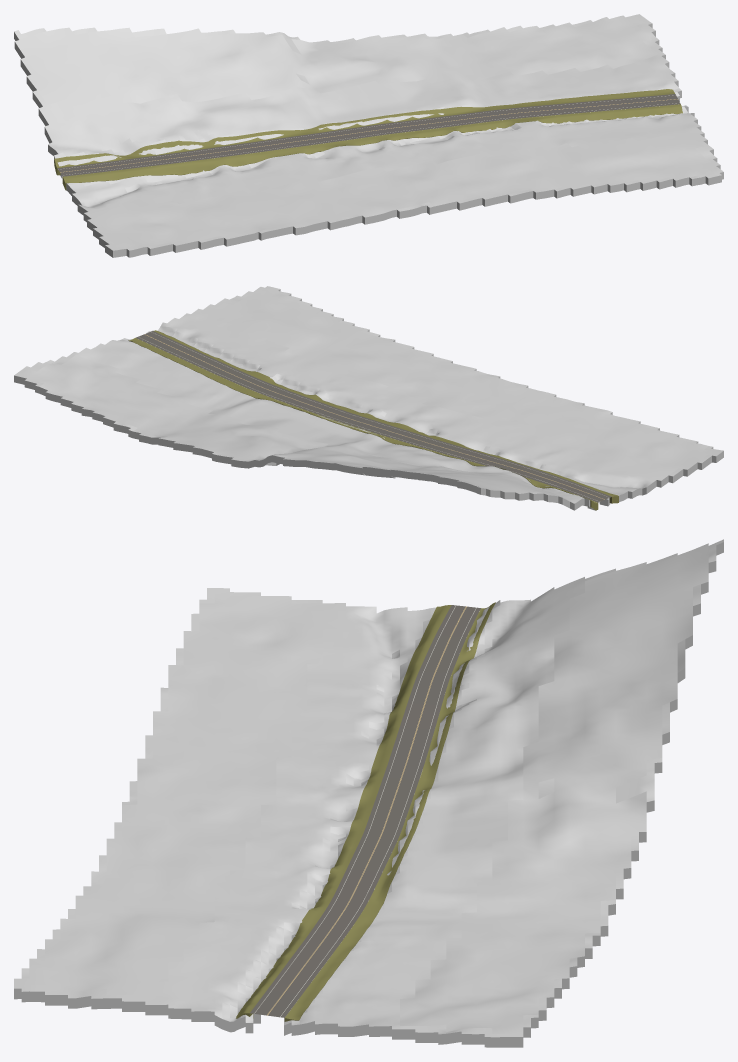
Rendered from conz_136.glb.
The picture shows the model from 3 angles, top to bottom: view 1: azimuth 30°, elevation 25°; view 2: azimuth 150°, elevation 25°; view 3: azimuth 270°, elevation 25°; orthographic projection. The views are drawn at different scales.
Parts seen in each view (by area): view 1: terrain136, road136, verge136L, verge136R, paint_white136, paint_yellow136; view 2: terrain136, road136, verge136R, verge136L, paint_yellow136, paint_white136; view 3: terrain136, road136, verge136L, verge136R, paint_white136.
Boxes of the visible parts, x1,y1,x2,y2 form: terrain136: (14, 14, 723, 257); road136: (57, 94, 680, 176); verge136L: (62, 104, 682, 190); verge136R: (54, 89, 674, 175); paint_white136: (58, 95, 679, 175); paint_yellow136: (60, 99, 677, 172); terrain136: (14, 286, 723, 510); road136: (136, 331, 611, 502); verge136R: (128, 338, 598, 510); verge136L: (154, 330, 618, 503); paint_yellow136: (145, 334, 604, 499); paint_white136: (139, 332, 608, 501); terrain136: (14, 539, 723, 1047); road136: (250, 605, 480, 1017); verge136L: (236, 605, 451, 1018); verge136R: (284, 602, 495, 1021); paint_white136: (254, 605, 476, 1016).
Bounding box in the file's own units: 278 × 37.68 × 184.
